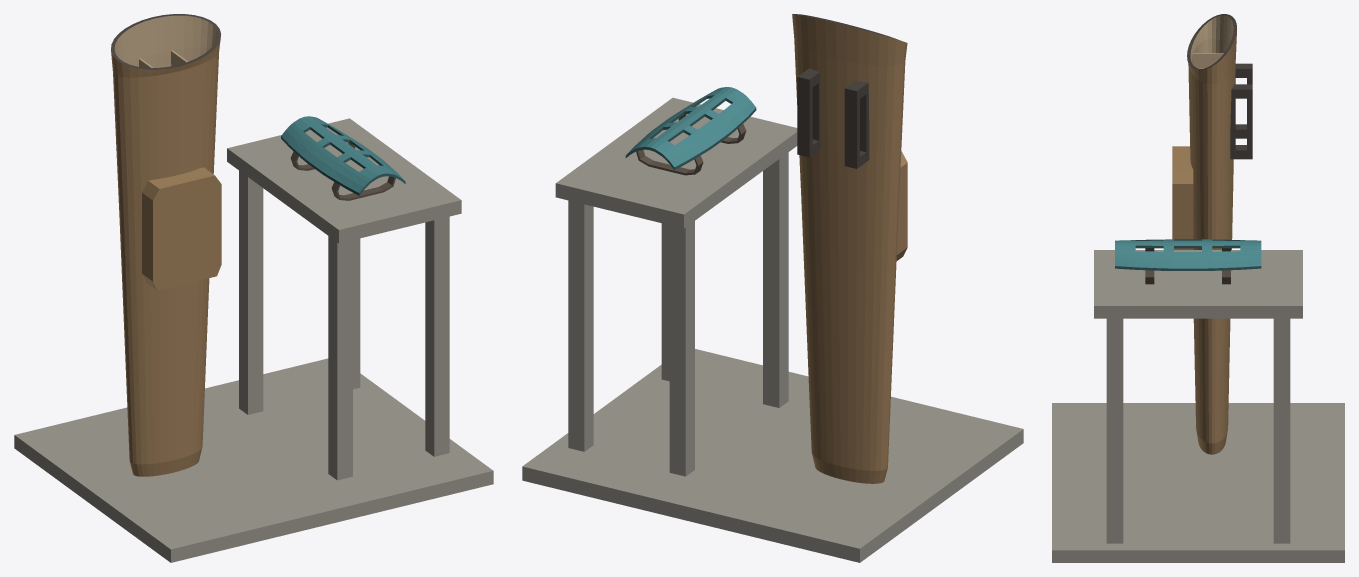
3 views of the same model, side by side, from view 1: azimuth 30°, elevation 25°; view 2: azimuth 150°, elevation 25°; view 3: azimuth 270°, elevation 25° (orthographic). The views are drawn at different scales.
Parts seen in each view (by area): view 1: SceneWholeFloorAndRaisedOpenFourFootSideTable, WholeLongThreeChannelCaseShell, WholeClosedFrontPocketExterior, WholeSixVentCurvedForearmShield; view 2: SceneWholeFloorAndRaisedOpenFourFootSideTable, WholeLongThreeChannelCaseShell, WholeSixVentCurvedForearmShield, WholeLeftRearBeltLoop, WholeRightRearBeltLoop, WholeClosedFrontPocketExterior; view 3: SceneWholeFloorAndRaisedOpenFourFootSideTable, WholeLongThreeChannelCaseShell, WholeSixVentCurvedForearmShield, WholeClosedFrontPocketExterior, WholeRightRearBeltLoop, WholeLeftRearBeltLoop.
Part boxes in pixels (left/top/right/bottom): SceneWholeFloorAndRaisedOpenFourFootSideTable: left=14, top=118, right=493, bottom=562; WholeLongThreeChannelCaseShell: left=111, top=14, right=220, bottom=476; WholeClosedFrontPocketExterior: left=142, top=167, right=221, bottom=290; WholeSixVentCurvedForearmShield: left=281, top=116, right=405, bottom=195; SceneWholeFloorAndRaisedOpenFourFootSideTable: left=522, top=97, right=1023, bottom=562; WholeLongThreeChannelCaseShell: left=792, top=14, right=907, bottom=483; WholeSixVentCurvedForearmShield: left=625, top=87, right=756, bottom=169; WholeLeftRearBeltLoop: left=844, top=81, right=869, bottom=168; WholeRightRearBeltLoop: left=797, top=68, right=820, bottom=157; WholeClosedFrontPocketExterior: left=896, top=151, right=907, bottom=260; SceneWholeFloorAndRaisedOpenFourFootSideTable: left=1052, top=250, right=1344, bottom=562; WholeLongThreeChannelCaseShell: left=1187, top=14, right=1236, bottom=454; WholeSixVentCurvedForearmShield: left=1115, top=239, right=1261, bottom=270; WholeClosedFrontPocketExterior: left=1172, top=146, right=1193, bottom=249; WholeRightRearBeltLoop: left=1230, top=84, right=1252, bottom=159; WholeLeftRearBeltLoop: left=1235, top=63, right=1252, bottom=138.
Size of the model in its own units: 0.5 by 0.672 by 0.42.
